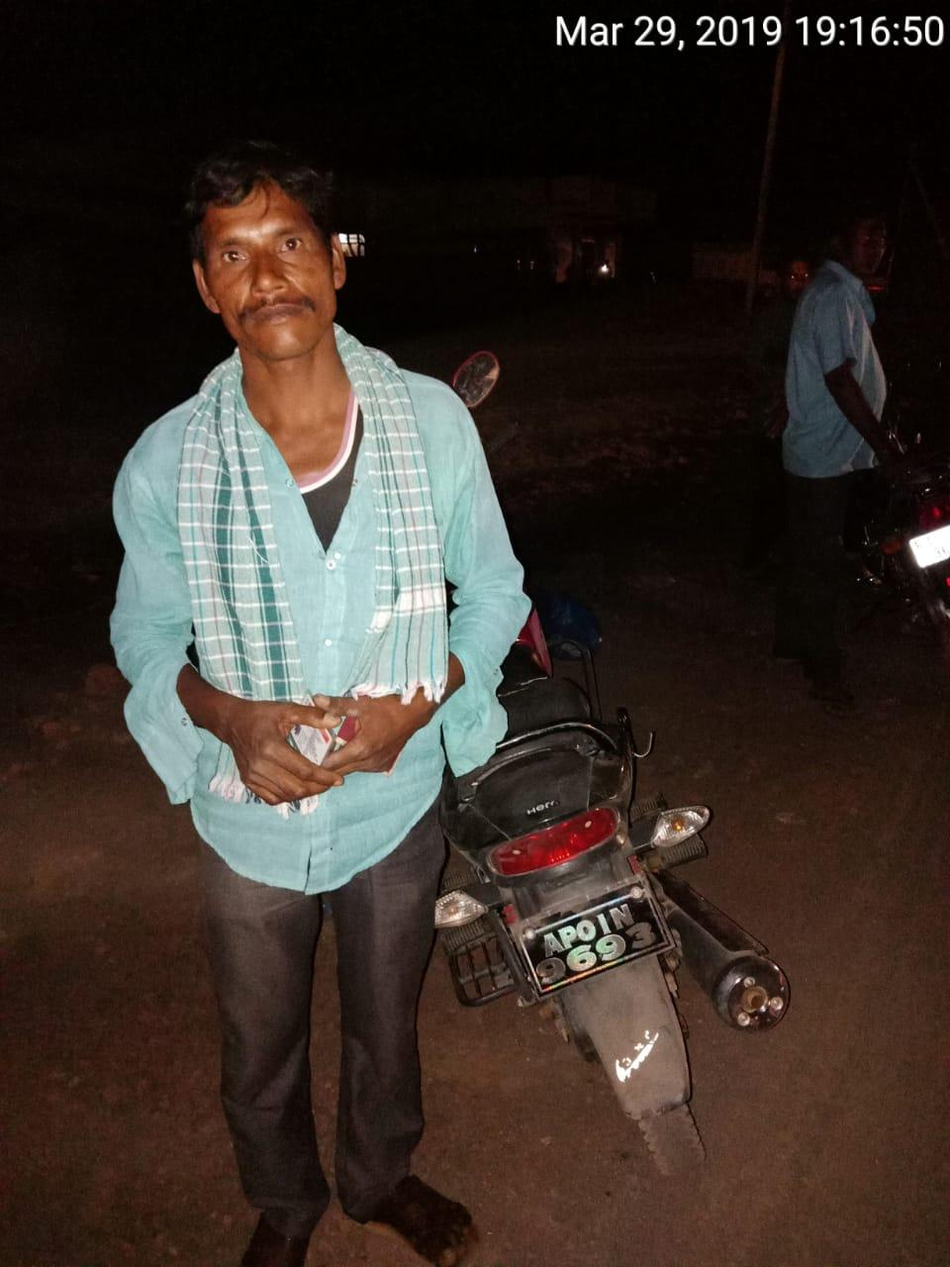plate: (516, 878, 687, 997)
